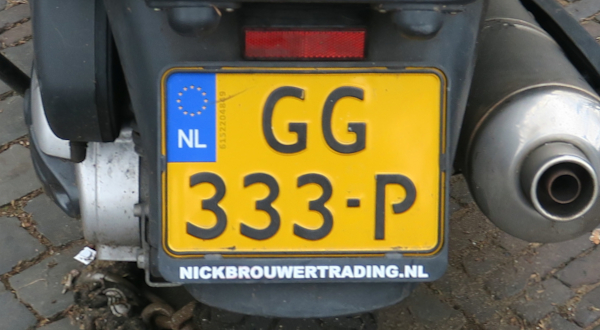license_plate: (160, 67, 445, 256)
